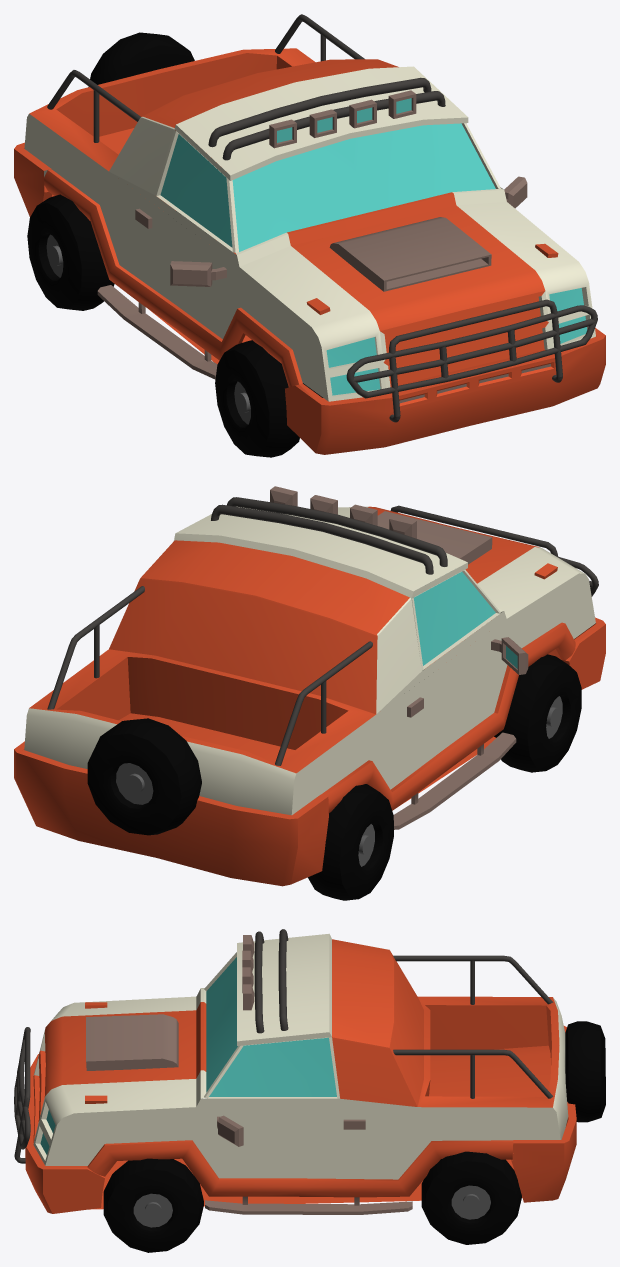
File: mesh_voiture.fbx
3 renders of one model, top to bottom at view 1: azimuth 30°, elevation 25°; view 2: azimuth 150°, elevation 25°; view 3: azimuth 270°, elevation 25°, orthographic. The views are drawn at different scales.
Parts seen in each view (by area): view 1: Plane002; view 2: Plane002; view 3: Plane002.
Boxes of the visible parts, x1,y1,x2,y2 form: Plane002: (14, 14, 605, 457); Plane002: (14, 486, 605, 900); Plane002: (14, 929, 605, 1252).
Size of the model in its own units: 1.88 by 1.37 by 3.22.
